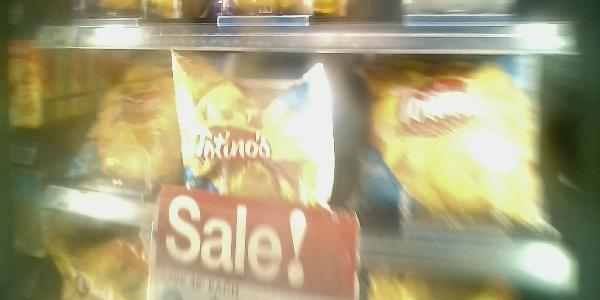icecream: (173, 51, 339, 239), (361, 73, 541, 243), (64, 54, 177, 217)
